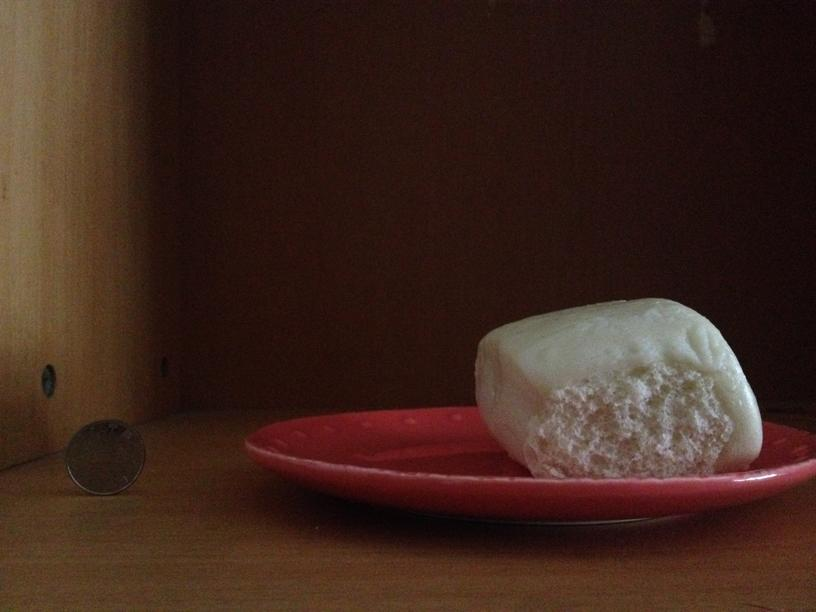bun: (469, 298, 763, 479)
coin: (68, 416, 147, 495)
